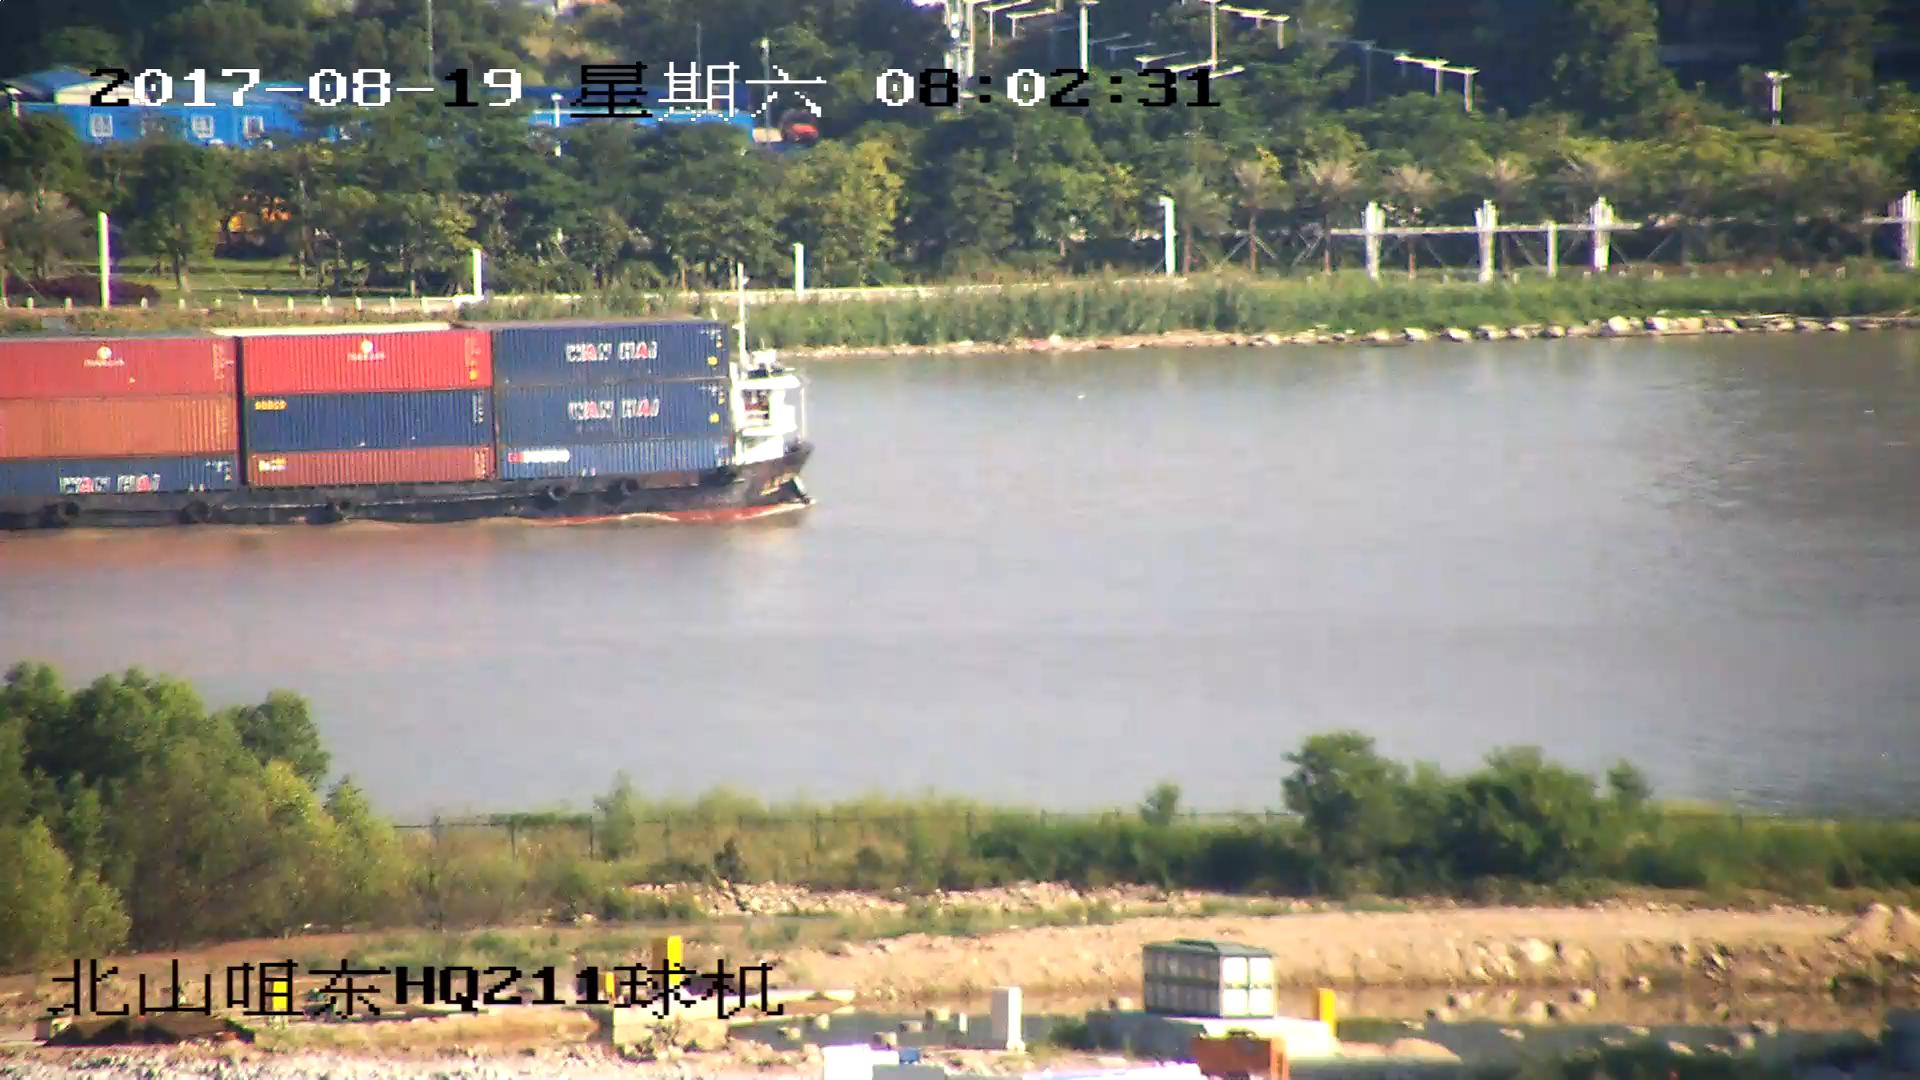container ship: (1, 270, 816, 526)
